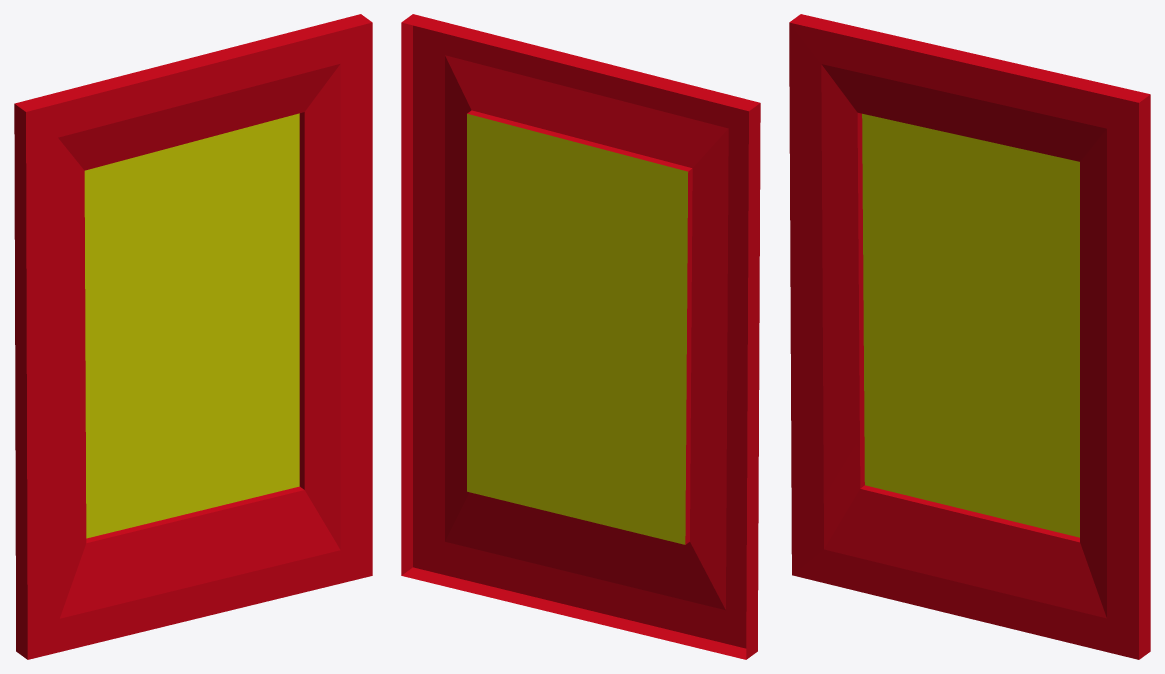
Rendered from Mesh_miroir_001 1.fbx.
The picture shows the model from 3 angles, left to right: view 1: azimuth 30°, elevation 25°; view 2: azimuth 150°, elevation 25°; view 3: azimuth 330°, elevation 25°; orthographic projection.
Parts seen in each view (by area): view 1: Mesh_miroir_001; view 2: Mesh_miroir_001; view 3: Mesh_miroir_001.
Part boxes in pixels (<box>): Mesh_miroir_001: <box>14,14,372,659</box>; Mesh_miroir_001: <box>401,14,760,659</box>; Mesh_miroir_001: <box>789,14,1150,659</box>.
Size of the model in its own units: 127 by 194 by 7.68.
